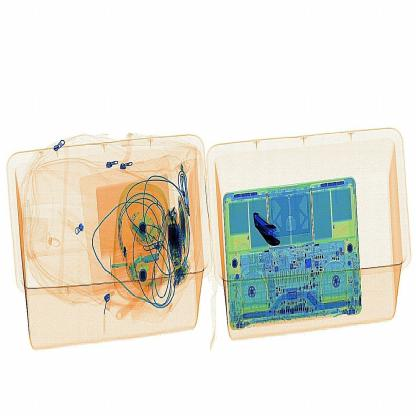pliers: (239, 201, 291, 259)
